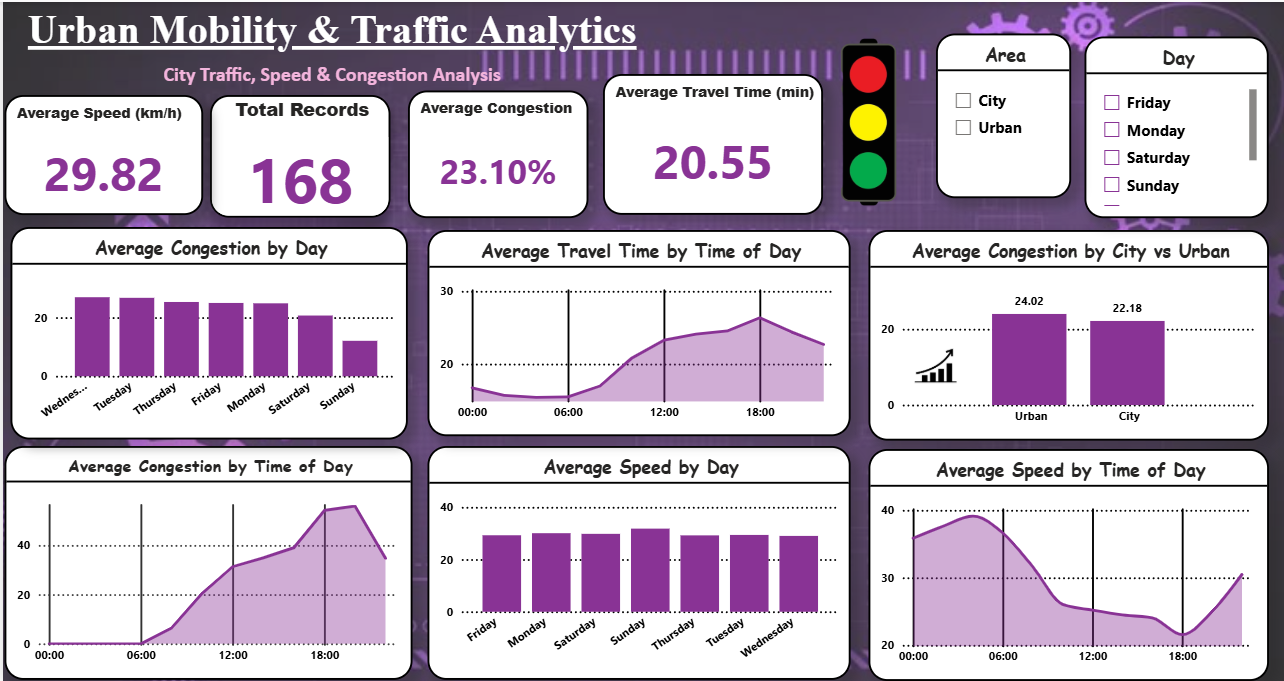

Layout of this report page (visuals, bound fields, positions):
{"tool":"powerbi","page":{"name":"Page 2","canvas":[1360,720],"ordinal":2},"visuals":[{"type":"cardVisual","title":"Total Records","fields":{"Data":["urban_mobility_master.Total Records"]},"box":[218.8,98.1,191.5,130.3],"z":0},{"type":"cardVisual","title":"Average Congestion","fields":{"Data":["urban_mobility_master.Average Congestion"]},"box":[429.6,93.3,191.5,135.1],"z":1000},{"type":"cardVisual","title":"Average Speed (km/h)","fields":{"Data":["urban_mobility_master.Average Speeds"]},"box":[1.6,98.1,210.8,127.1],"z":2000},{"type":"lineChart","fields":{"Category":["urban_mobility_master.Time_24"],"Y":["Avg(urban_mobility_master.Congestion)"]},"box":[1.6,471.4,432.8,247.8],"z":3000},{"type":"clusteredColumnChart","fields":{"Category":["urban_mobility_master.Area"],"Y":["Avg(urban_mobility_master.Congestion)"]},"box":[917,241.3,424.7,223.6],"z":4000},{"type":"clusteredColumnChart","fields":{"Category":["urban_mobility_master.Day"],"Y":["Avg(urban_mobility_master.Congestion)"]},"box":[8,238.1,421.5,225.2],"z":5000},{"type":"clusteredColumnChart","fields":{"Category":["urban_mobility_master.Day"],"Y":["Avg(urban_mobility_master.Speed_kmh)"]},"box":[450.5,471.4,448.9,247.8],"z":6000},{"type":"cardVisual","title":"Average Travel Time (min)","fields":{"Data":["urban_mobility_master.Average Travel Time"]},"box":[635.5,75.6,233.3,149.6],"z":7000},{"type":"lineChart","fields":{"Category":["urban_mobility_master.Time_24"],"Y":["Avg(urban_mobility_master.Speed_kmh)"]},"box":[917,474.6,424.7,246.2],"z":8000},{"type":"lineChart","fields":{"Category":["urban_mobility_master.Time_24"],"Y":["urban_mobility_master.AAverage Travel Time"]},"box":[450.5,241.3,448.9,218.8],"z":9000},{"type":"slicer","title":"Day","fields":{"Values":["urban_mobility_master.Day"]},"box":[1146.8,36.6,195.6,192.5],"z":10000},{"type":"slicer","title":"Area","fields":{"Values":["urban_mobility_master.Area"]},"box":[989.4,33.4,143.2,175],"z":11000},{"type":"textbox","box":[0,0,698.2,62.7],"z":12000},{"type":"textbox","box":[75.6,59.5,545.4,38.6],"z":13000},{"type":"image","box":[901,350.7,177,70.8],"z":13001},{"type":"image","box":[870.1,28.6,119.3,197.2],"z":13002}]}

Visuals, with their boxes in screenshot pixels (x1, y1, x2, y2), scaled from the page's 1360x720 canvas onto the 1284x681 screenshot:
"Total Records" cardVisual: bbox=[207, 93, 387, 216]
"Average Congestion" cardVisual: bbox=[406, 88, 586, 216]
"Average Speed (km/h)" cardVisual: bbox=[2, 93, 201, 213]
lineChart - urban_mobility_master.Time_24 x Avg(urban_mobility_master.Congestion): bbox=[2, 446, 410, 680]
clusteredColumnChart - urban_mobility_master.Area x Avg(urban_mobility_master.Congestion): bbox=[866, 228, 1267, 440]
clusteredColumnChart - urban_mobility_master.Day x Avg(urban_mobility_master.Congestion): bbox=[8, 225, 405, 438]
clusteredColumnChart - urban_mobility_master.Day x Avg(urban_mobility_master.Speed_kmh): bbox=[425, 446, 849, 680]
"Average Travel Time (min)" cardVisual: bbox=[600, 72, 820, 213]
lineChart - urban_mobility_master.Time_24 x Avg(urban_mobility_master.Speed_kmh): bbox=[866, 449, 1267, 680]
lineChart - urban_mobility_master.Time_24 x urban_mobility_master.AAverage Travel Time: bbox=[425, 228, 849, 435]
"Day" slicer: bbox=[1083, 35, 1267, 217]
"Area" slicer: bbox=[934, 32, 1069, 197]
textbox: bbox=[0, 0, 659, 59]
textbox: bbox=[71, 56, 586, 93]
image: bbox=[851, 332, 1018, 399]
image: bbox=[821, 27, 934, 214]
